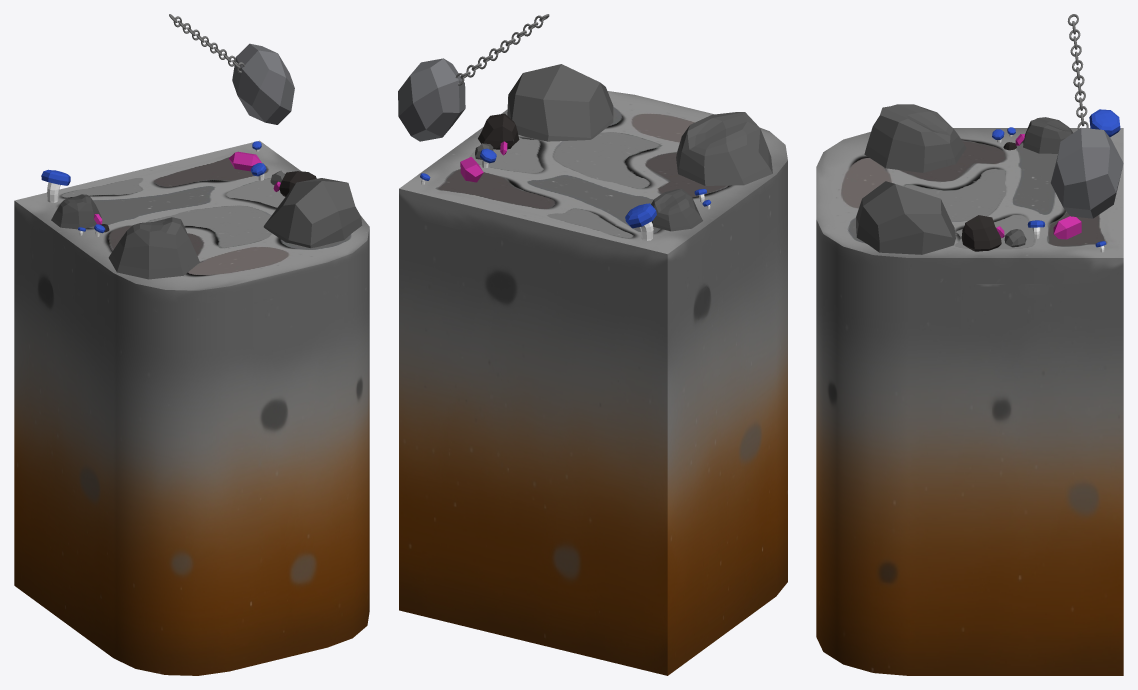
File: FinalCueva.fbx
3 renders of one model, left to right at view 1: azimuth 30°, elevation 25°; view 2: azimuth 150°, elevation 25°; view 3: azimuth 270°, elevation 25°, orthographic. The views are drawn at different scales.
Parts seen in each view (by area): view 1: FinalCueva, Cube.061, BolaMalo, Cube.062, Cube.002; view 2: FinalCueva, Cube.061, Cube.062, BolaMalo, Cube.002, Cube.058; view 3: FinalCueva, BolaMalo, Cube.061, Cube.062, Cube.002, Cube.058, Cube.051, Cylinder.011.
Part boxes in pixels (<box>): FinalCueva: <box>14,140,369,675</box>; Cube.061: <box>263,178,362,248</box>; BolaMalo: <box>169,14,294,124</box>; Cube.062: <box>108,217,199,279</box>; Cube.002: <box>51,194,101,229</box>; FinalCueva: <box>399,91,787,675</box>; Cube.061: <box>507,64,613,141</box>; Cube.062: <box>676,112,772,185</box>; BolaMalo: <box>398,14,549,141</box>; Cube.002: <box>651,188,702,231</box>; Cube.058: <box>478,113,519,149</box>; FinalCueva: <box>816,128,1123,675</box>; BolaMalo: <box>1050,14,1123,218</box>; Cube.061: <box>856,181,955,254</box>; Cube.062: <box>864,104,966,172</box>; Cube.002: <box>1023,117,1072,153</box>; Cube.058: <box>961,215,1001,251</box>; Cube.051: <box>1089,109,1120,137</box>; Cylinder.011: <box>1053,216,1081,239</box>.
Bounding box in the file's own units: 1052 × 2162 × 1000.
